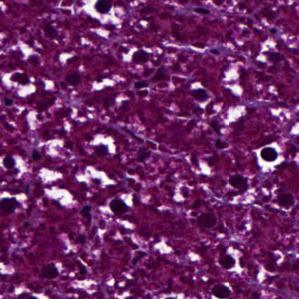inflammation: (102, 191, 141, 220), (83, 131, 120, 157), (253, 140, 285, 170)
